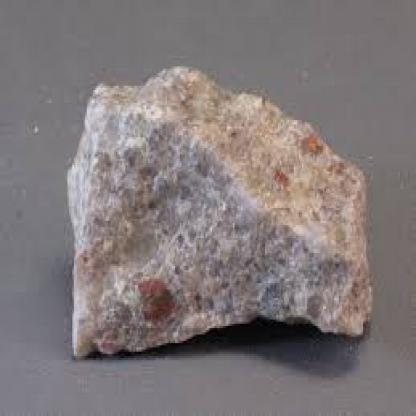Metamorphic_Quartize: (58, 52, 376, 366)
